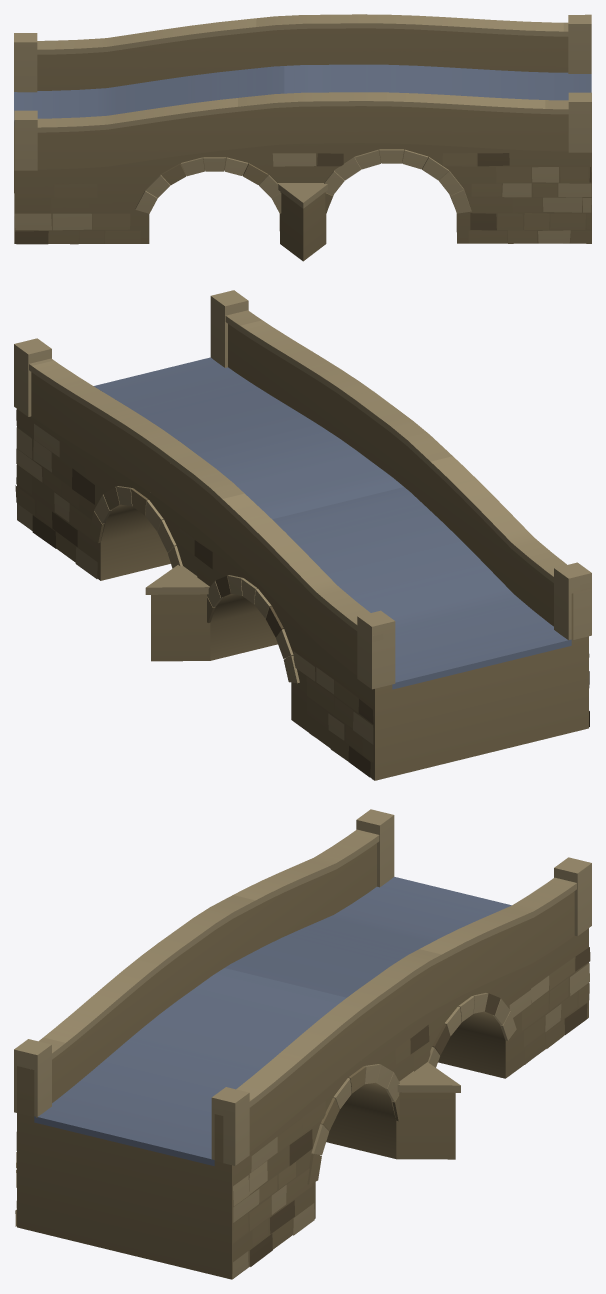
File: stone_bridge.glb
3 renders of one model, top to bottom at view 1: azimuth 30°, elevation 25°; view 2: azimuth 150°, elevation 25°; view 3: azimuth 270°, elevation 25°, orthographic. The views are drawn at different scales.
Visible parts, largest first — view 1: isl_stone_bridge; view 2: isl_stone_bridge; view 3: isl_stone_bridge.
Part boxes in pixels (bbox=[...]): isl_stone_bridge: bbox=[14, 14, 591, 261]; isl_stone_bridge: bbox=[14, 290, 591, 780]; isl_stone_bridge: bbox=[14, 809, 591, 1279].
Bounding box in the file's own units: 12.95 × 3.41 × 10.01.
